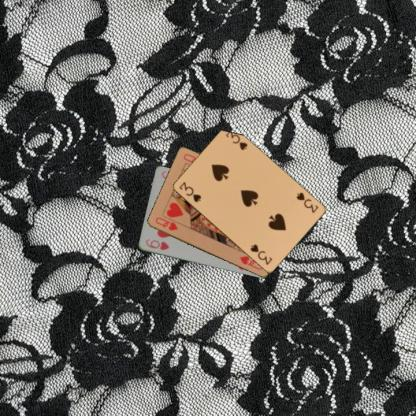3s: (176, 179, 202, 203), (294, 190, 320, 214)
6h: (143, 236, 170, 252)
Qh: (152, 214, 178, 232)
